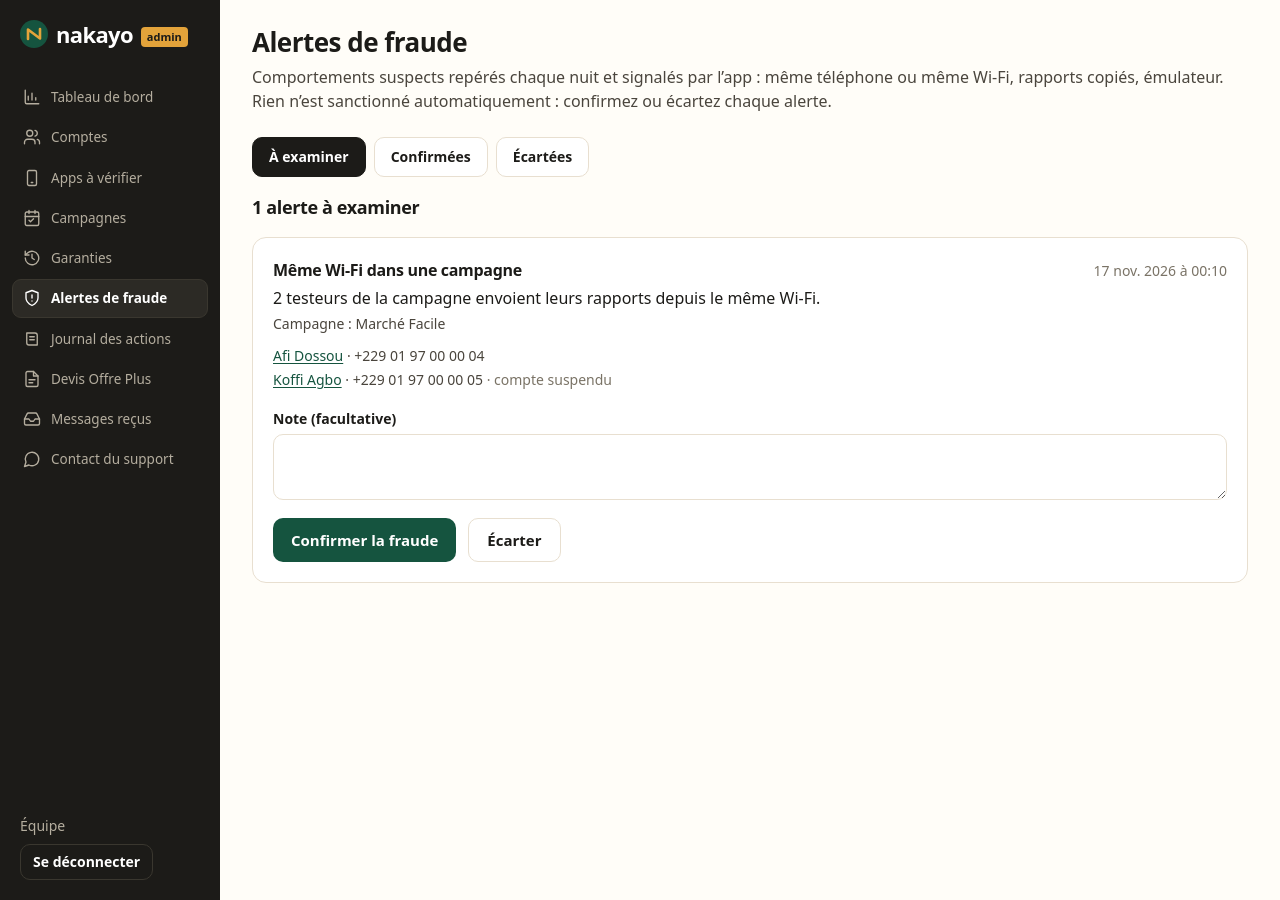
Scenario: Back-office : alertes de fraude (US-28) › liste les alertes à examiner et en écarte une avec une note
Check: the heading "1 alerte à examiner" is shown, box [252,195,419,219]
Check: the text "Campagne : Marché Facile" is shown, box [273,314,445,333]
In the text box labelled "Note (facultative)": (750, 467) [273,434,1227,500], type "Colocataires."
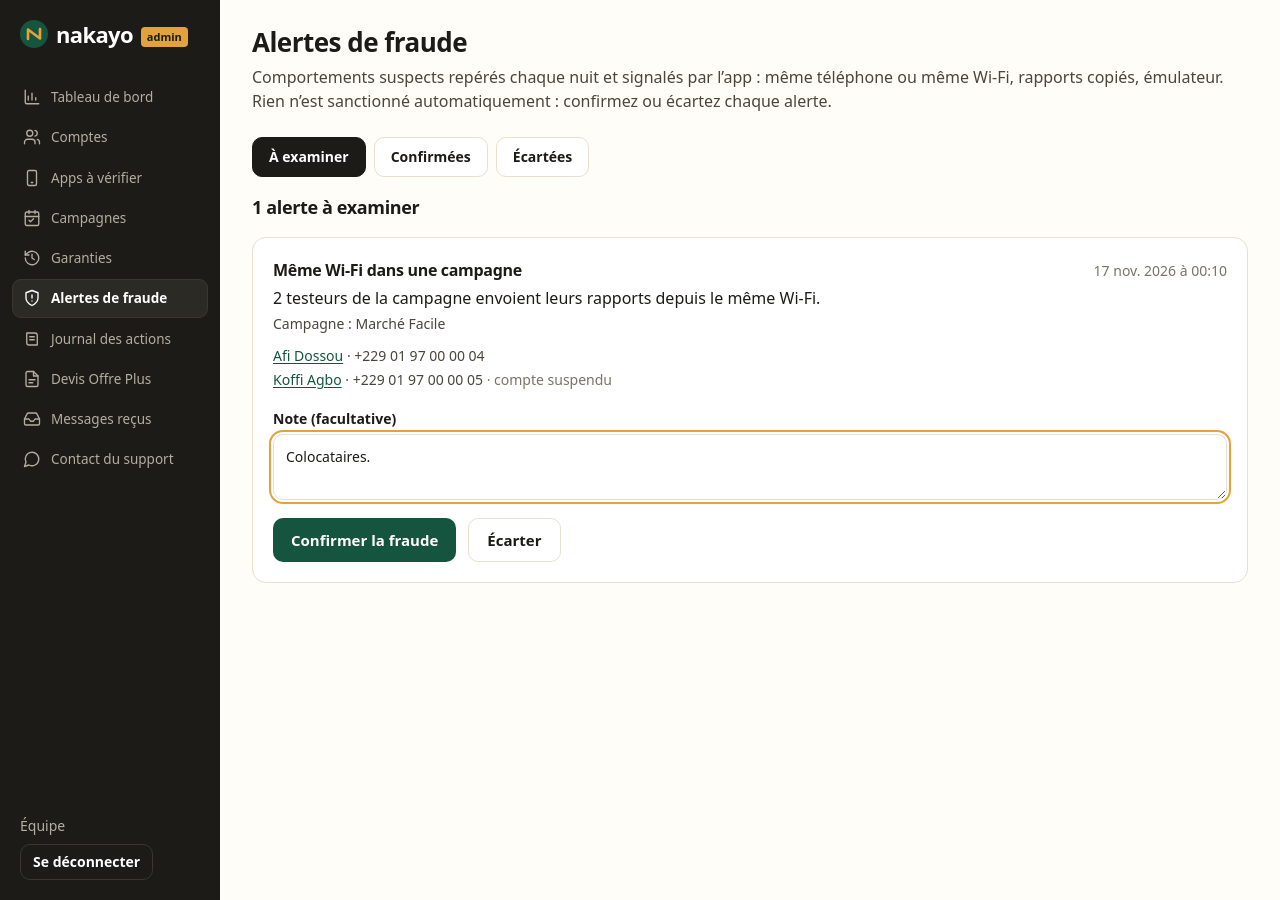
Click the button "Écarter": (514, 540) [468,518,560,562]
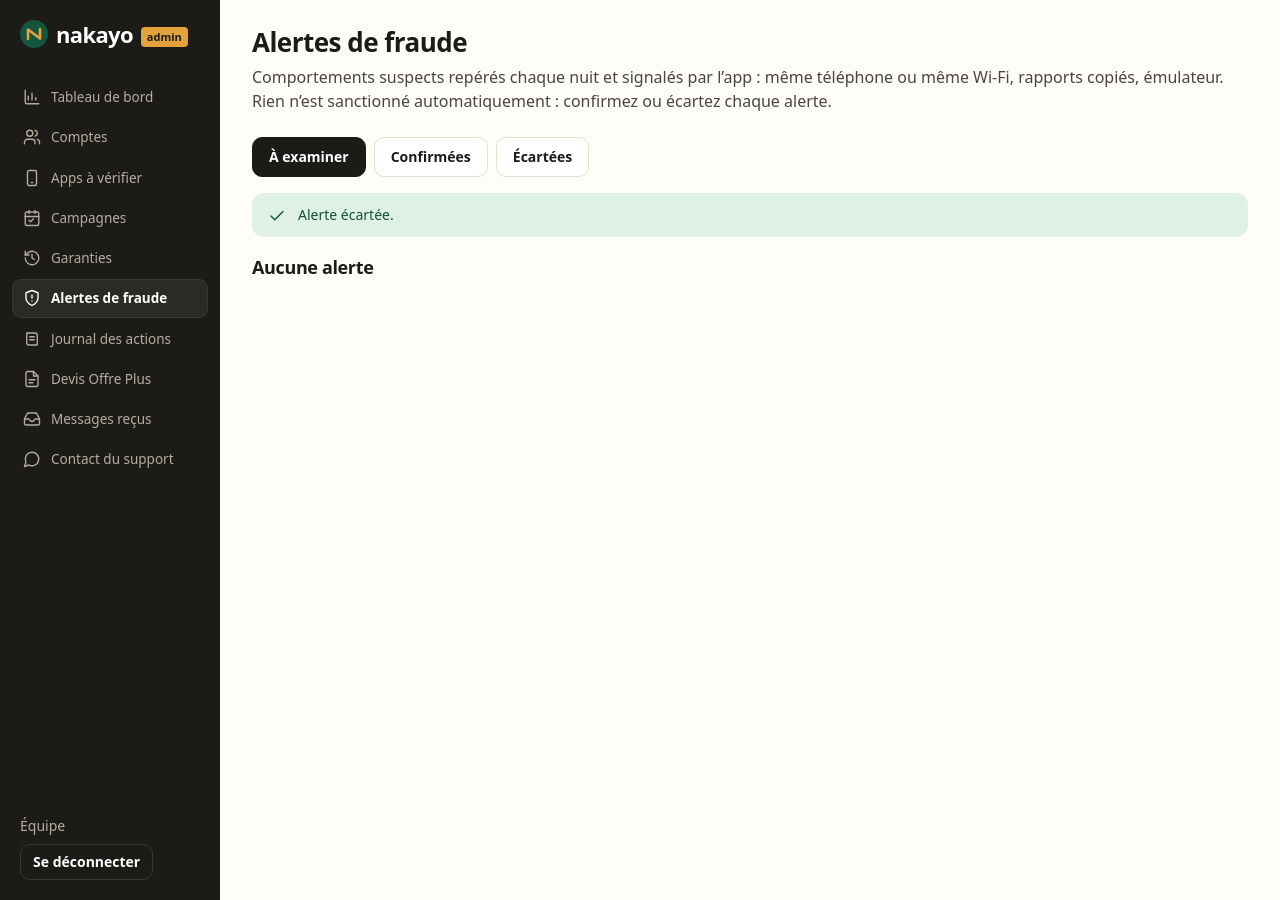
Check: the text "Alerte écartée." is shown, box [298,205,394,225]
Check: the heading "Même Wi-Fi dans une campagne" is gone
